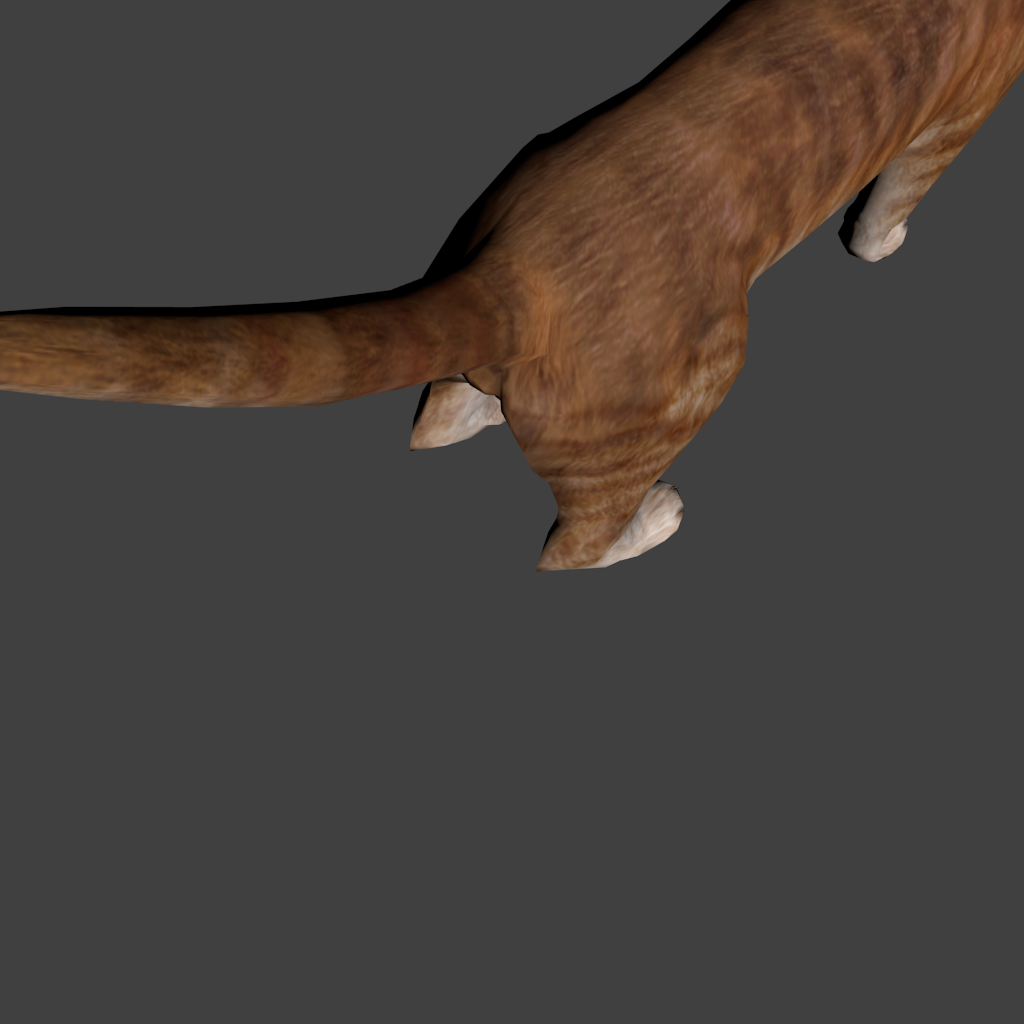Cat: (0, 0, 1024, 572)
